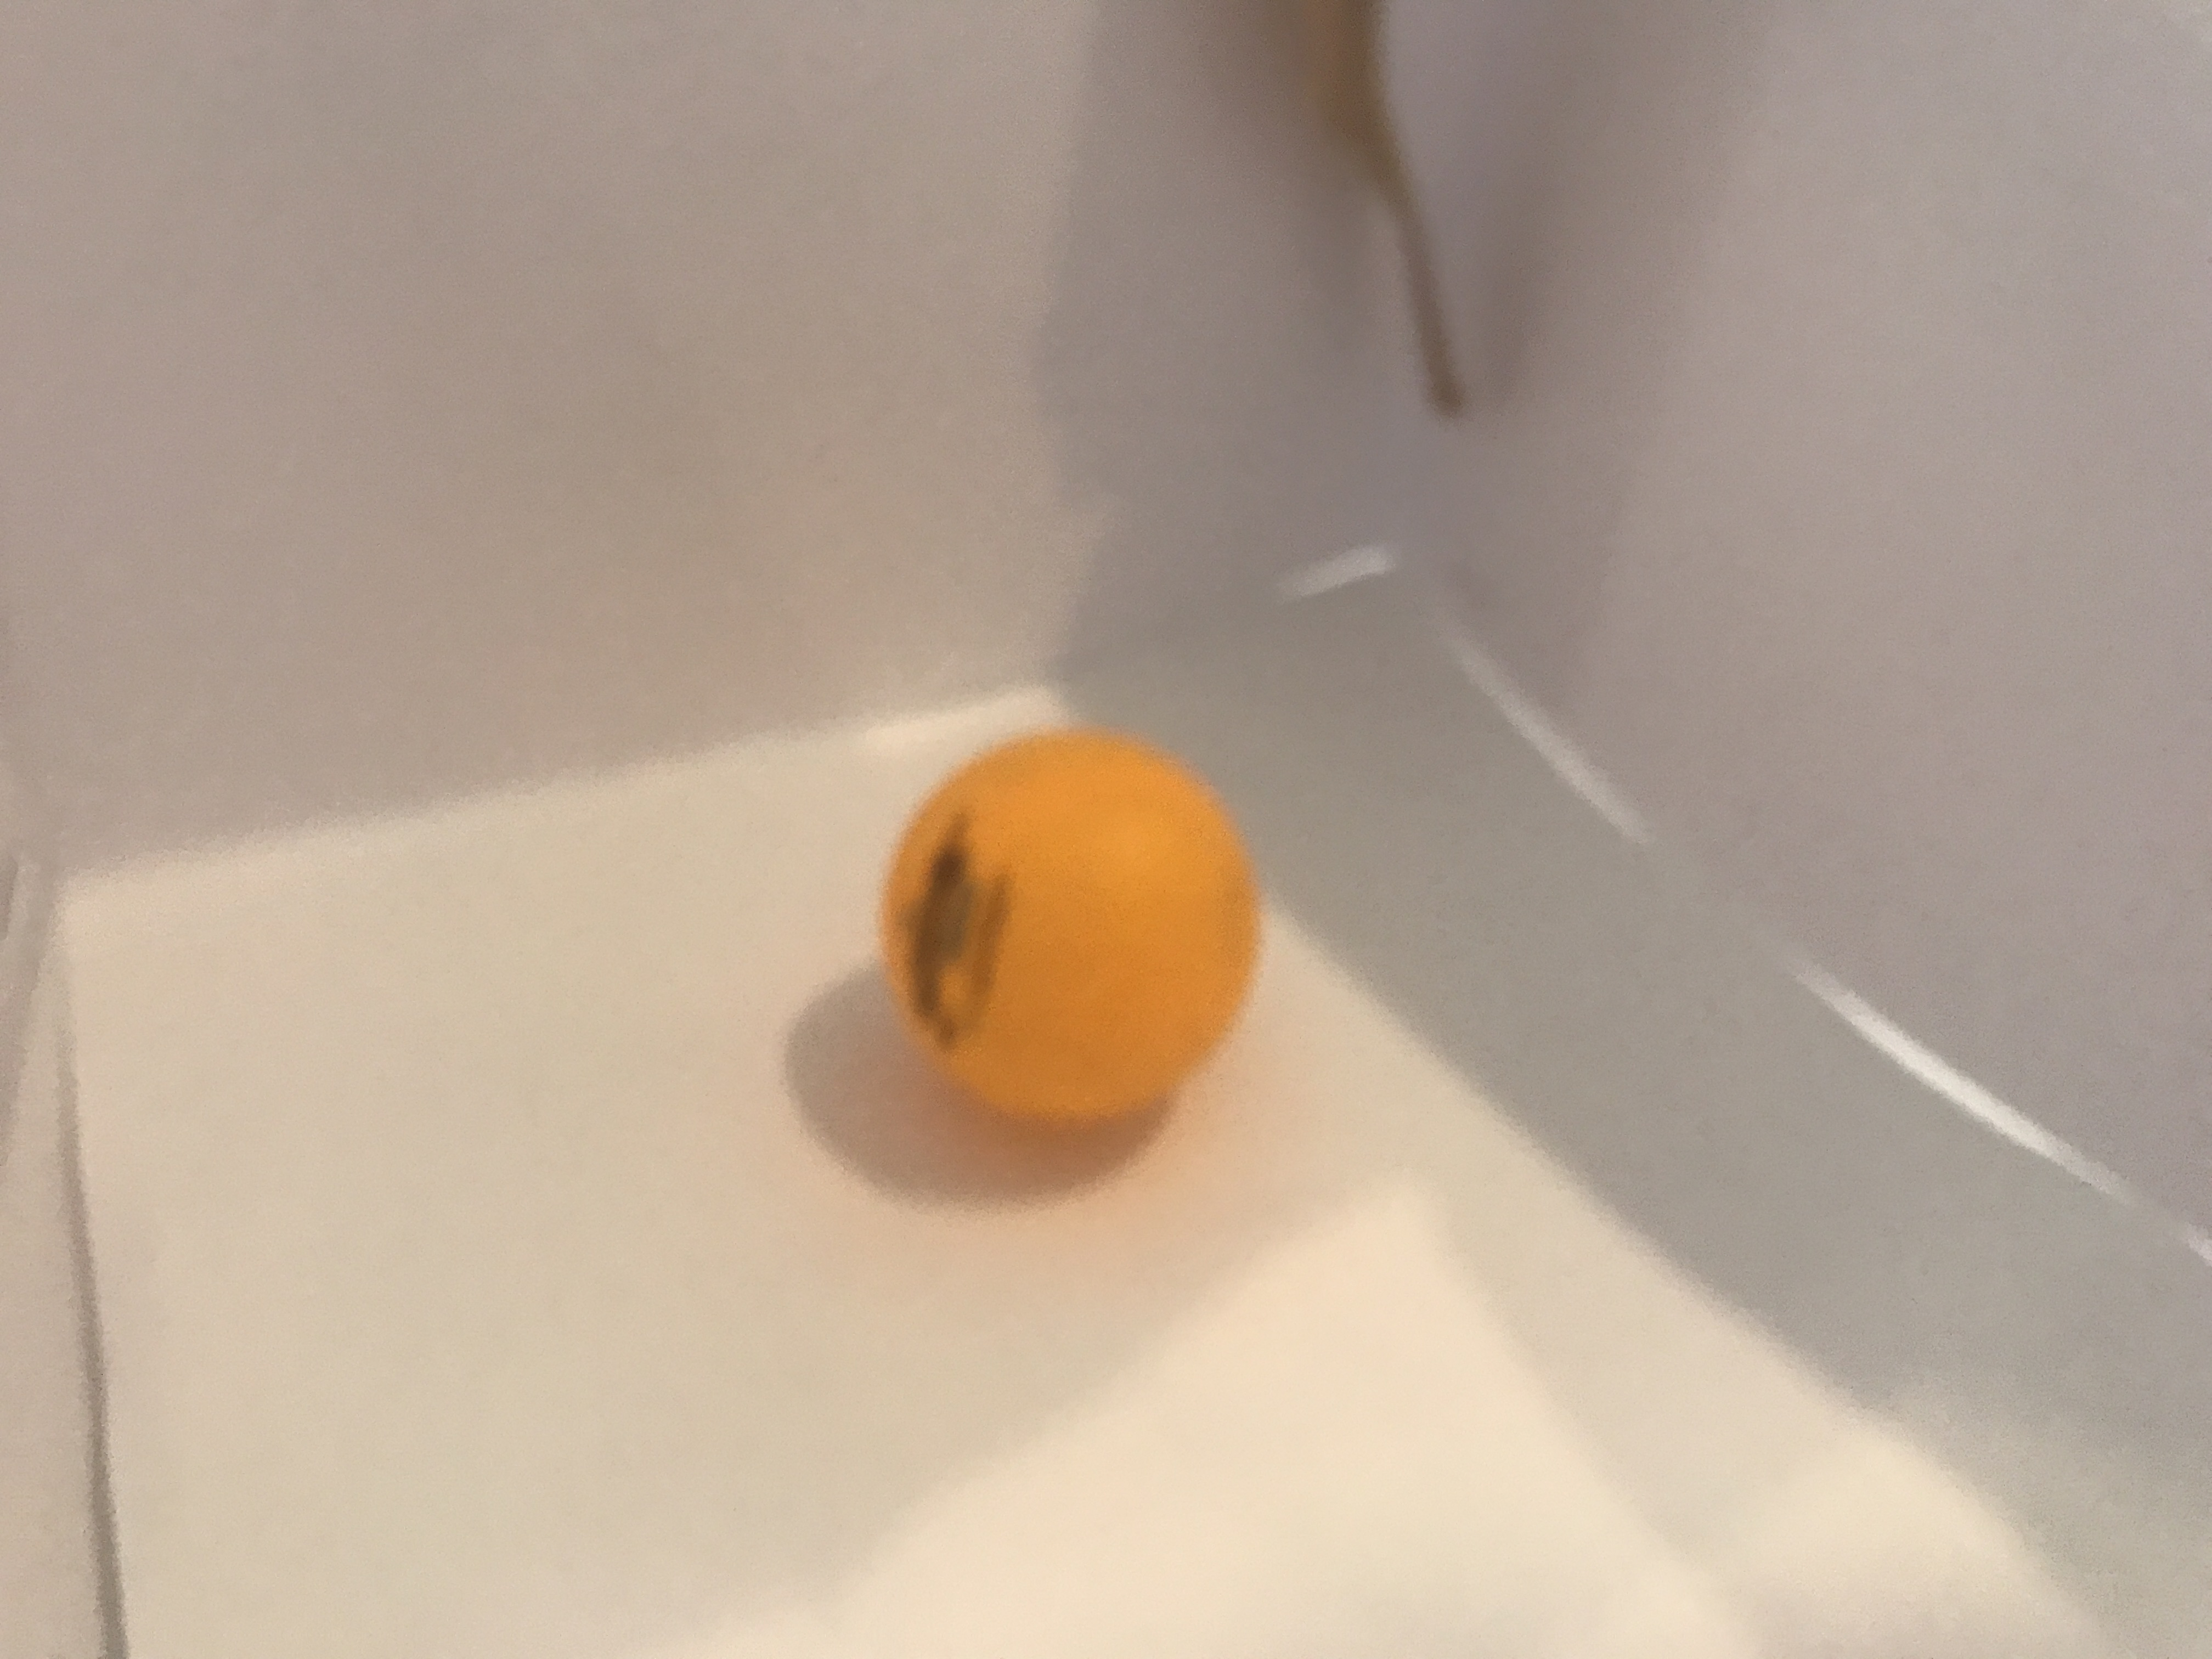pp: (857, 708, 1298, 1138)
